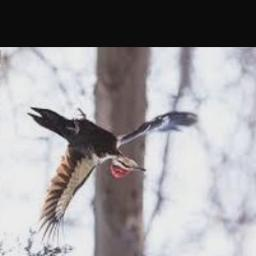Woodpecker: (28, 108, 199, 246)
